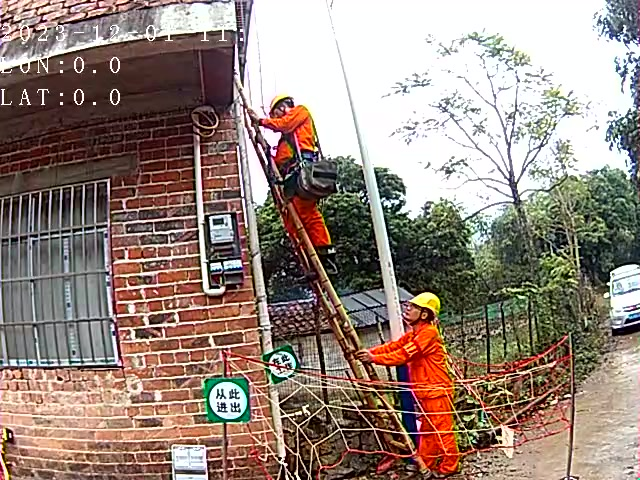halt: (402, 292, 442, 326), (270, 93, 296, 118)
hand: (352, 347, 372, 361)
inear: (407, 308, 432, 328), (277, 99, 290, 117)
intosign: (204, 378, 249, 420)
person: (255, 91, 338, 255), (382, 289, 458, 468)
support: (352, 288, 468, 479)
worksign: (261, 344, 302, 383)
ydownsuit: (267, 171, 333, 250), (414, 395, 455, 466)
yupsuit: (381, 330, 451, 393), (261, 108, 318, 176)
